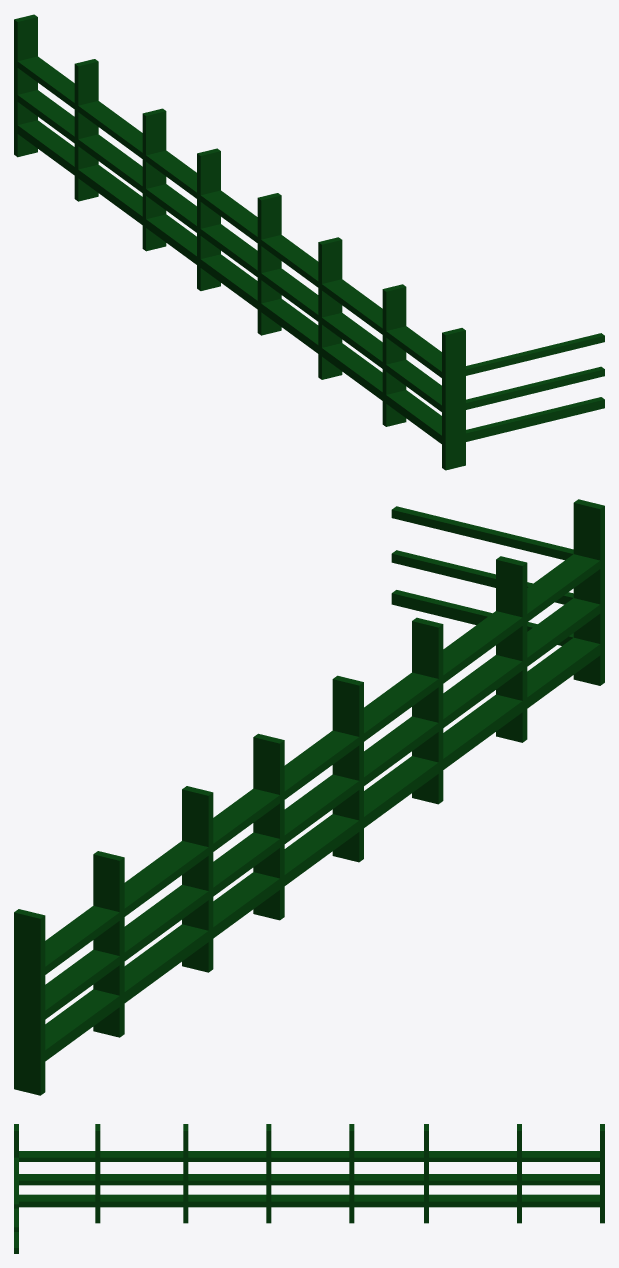
Rendered from plane.017_lev3.glb.
3 views of the same model, one above another, from view 1: azimuth 30°, elevation 25°; view 2: azimuth 150°, elevation 25°; view 3: azimuth 270°, elevation 25° (orthographic). The views are drawn at different scales.
Parts seen in each view (by area): view 1: plane.017_lev3; view 2: plane.017_lev3; view 3: plane.017_lev3.
Boxes of the visible parts, x1=… form: plane.017_lev3: x1=14, y1=14, x2=604, y2=470; plane.017_lev3: x1=14, y1=499, x2=604, y2=1095; plane.017_lev3: x1=14, y1=1124, x2=604, y2=1253.
Size of the model in its own units: 0.4805 by 0.3895 by 2.25.
